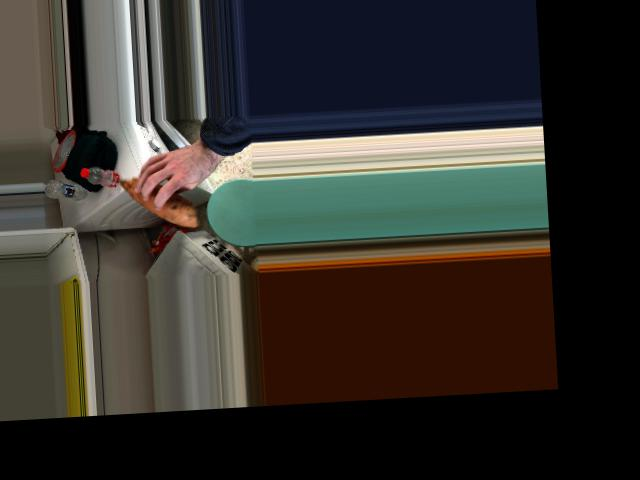sweet_potato: (121, 165, 188, 230)
